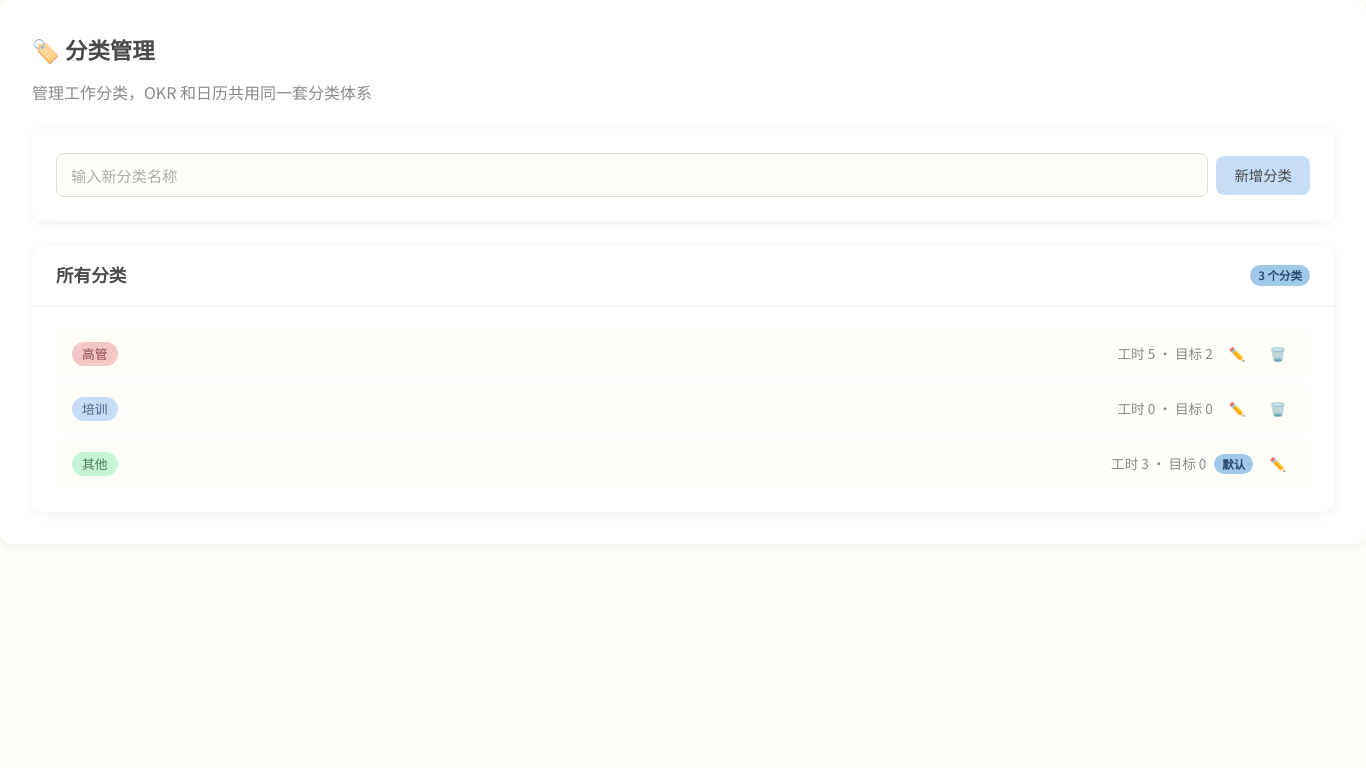
Scenario: CategoryManagementPage › shows migration dialog for category with records
Expected: the text "高管" is shown, left=72, top=342, right=118, bottom=366
Click the button named "删除分类 高管": (1278, 354) left=1261, top=339, right=1294, bottom=370
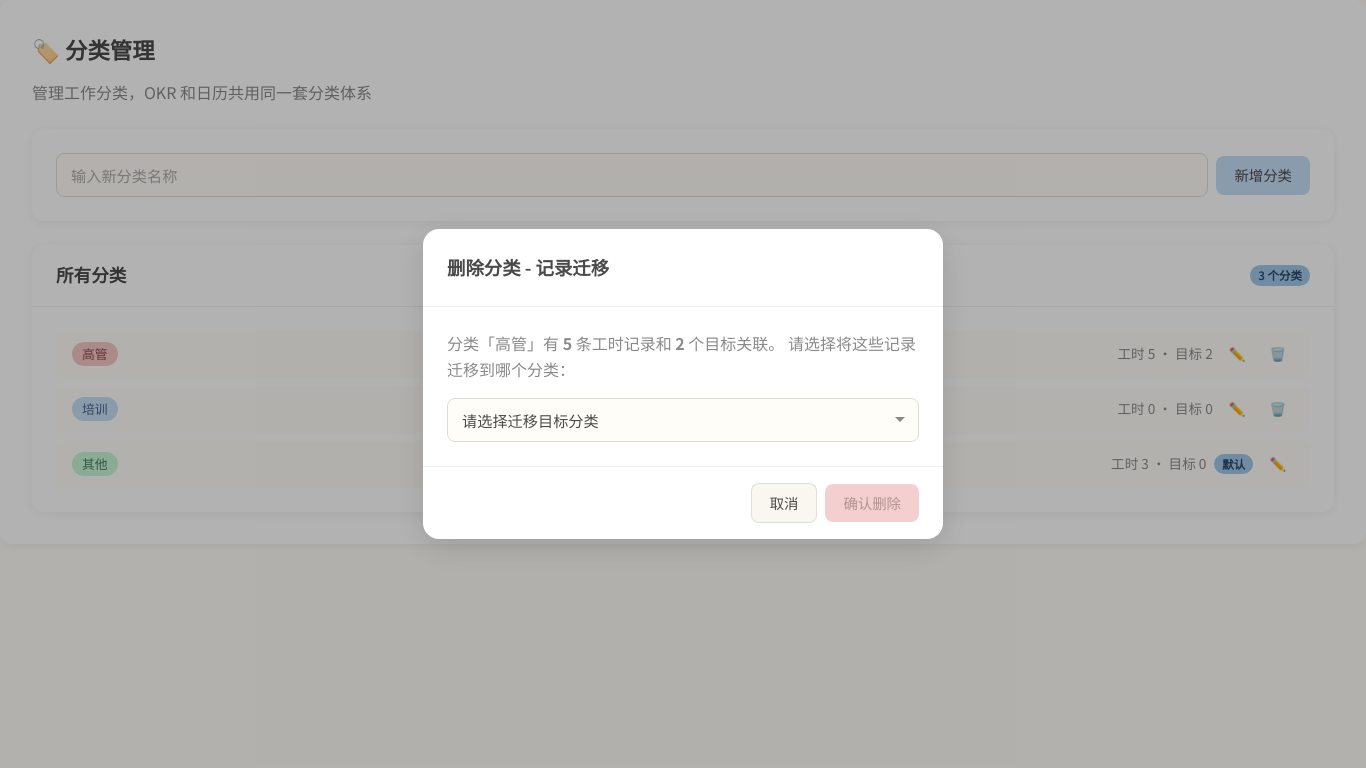
Now the heading "删除分类 - 记录迁移" is shown, box left=447, top=253, right=609, bottom=282
